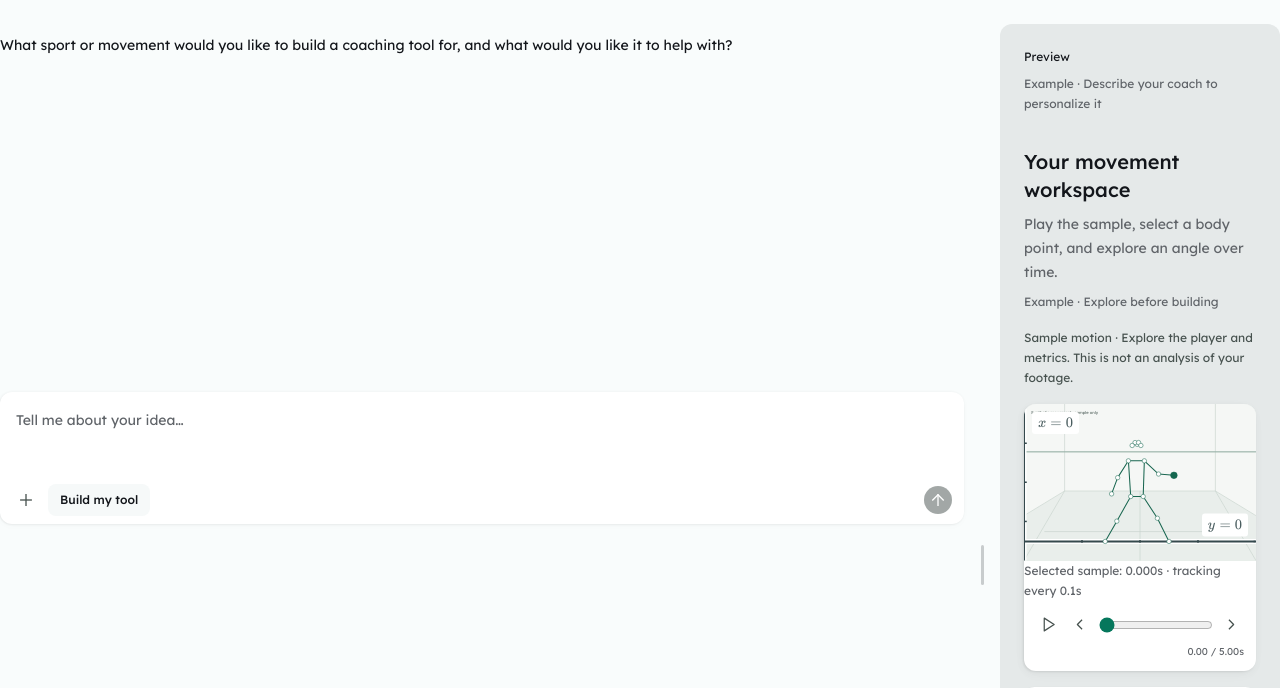
Scenario: keeps the removed header X absent and the modal X equivalent to Keep talking
Click the button "Build my tool": point(99, 500) [48, 484, 150, 516]
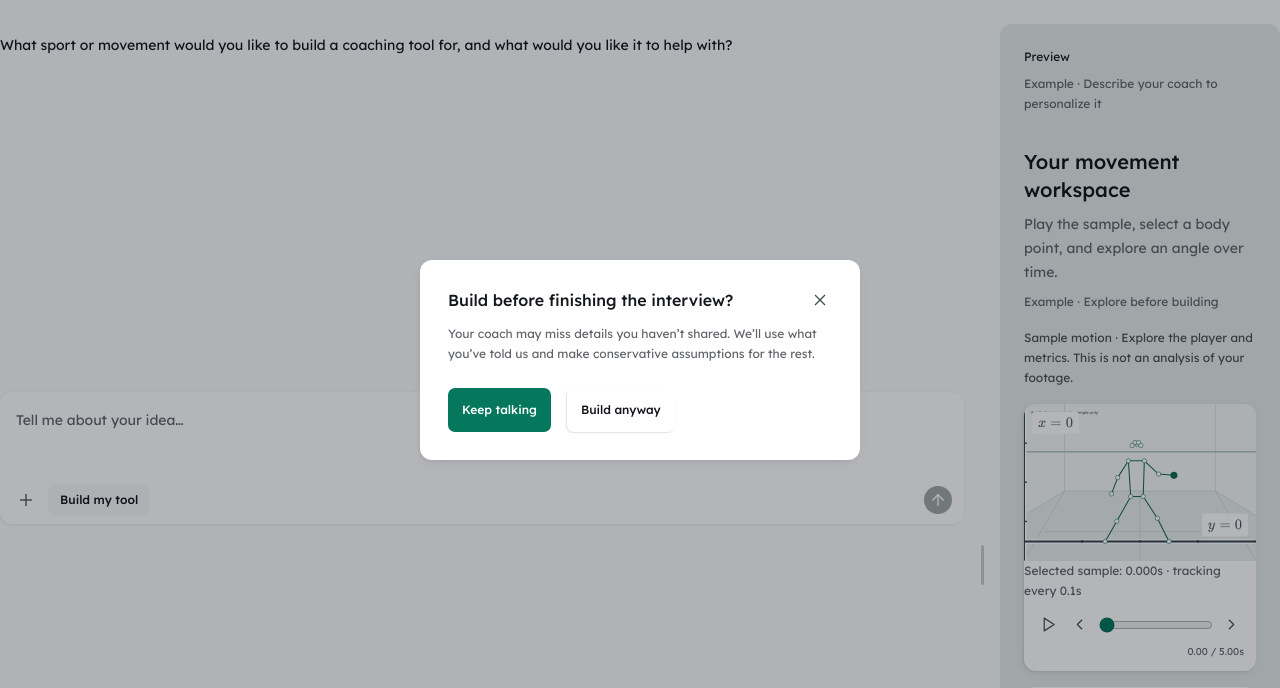
Click the button named "Close dialog": point(820, 300) [808, 288, 832, 312]
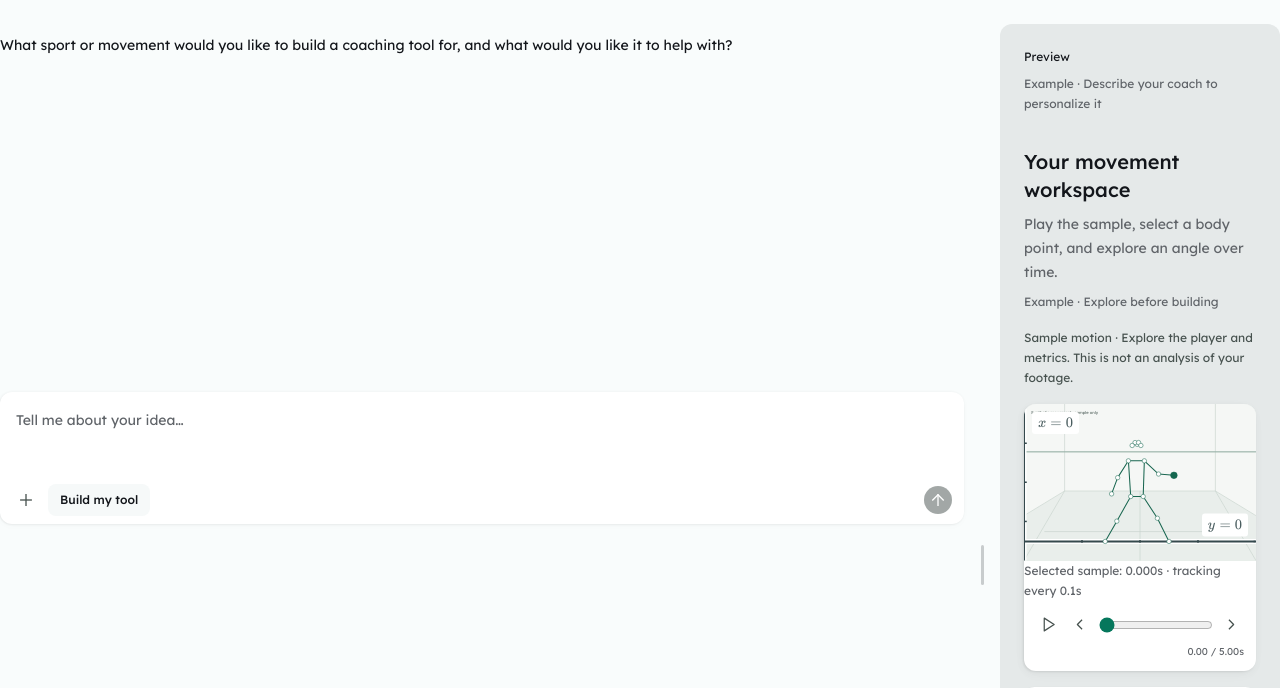
Now the dialog is gone
